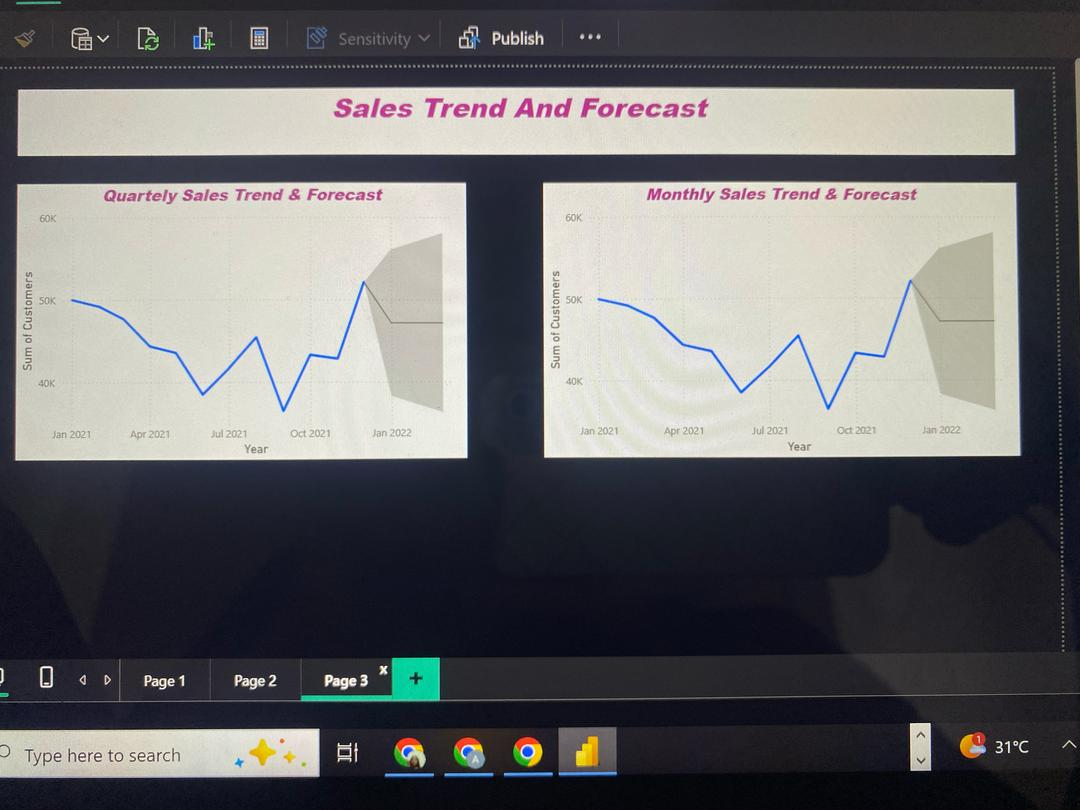

The page's visual inventory and layout, read from the dashboard file:
{"tool":"powerbi","page":{"name":"Page 3","canvas":[1280,720],"ordinal":2},"visuals":[{"type":"lineChart","title":"Monthly Sales Trend & Forecast ","fields":{"Y":["Sum(sales.Customers)"],"Category":["sales.Date.Variation.Date Hierarchy.Year","sales.Date.Variation.Date Hierarchy.Quarter","sales.Date.Variation.Date Hierarchy.Month"]},"box":[658.8,139.9,572.5,330.2],"z":0},{"type":"lineChart","title":"Quartely Sales Trend & Forecast ","fields":{"Y":["Sum(sales.Customers)"],"Category":["sales.Date.Variation.Date Hierarchy.Year","sales.Date.Variation.Date Hierarchy.Quarter","sales.Date.Variation.Date Hierarchy.Month"]},"box":[29.3,139.9,536.8,330.2],"z":1},{"type":"textbox","title":"Sales Trend And Forecast","box":[29.3,26,1202,79.7],"z":2}]}

Visuals, with their boxes in screenshot pixels (x1, y1, x2, y2):
"Monthly Sales Trend & Forecast " lineChart: [540, 181, 1016, 456]
"Quartely Sales Trend & Forecast " lineChart: [16, 181, 463, 456]
"Sales Trend And Forecast" textbox: [16, 86, 1016, 153]
